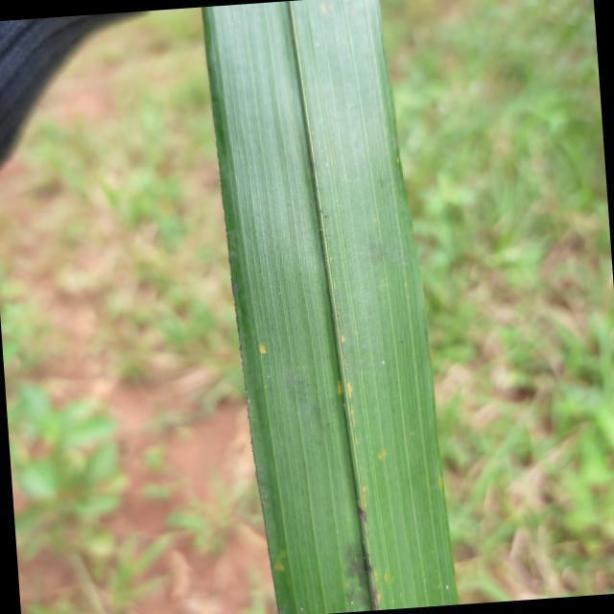Kalium: (201, 5, 459, 614)
